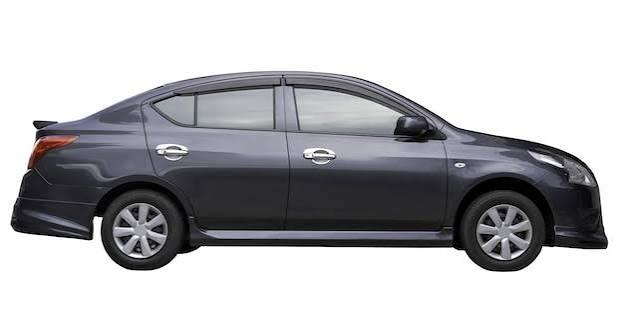car: (11, 86, 594, 271)
